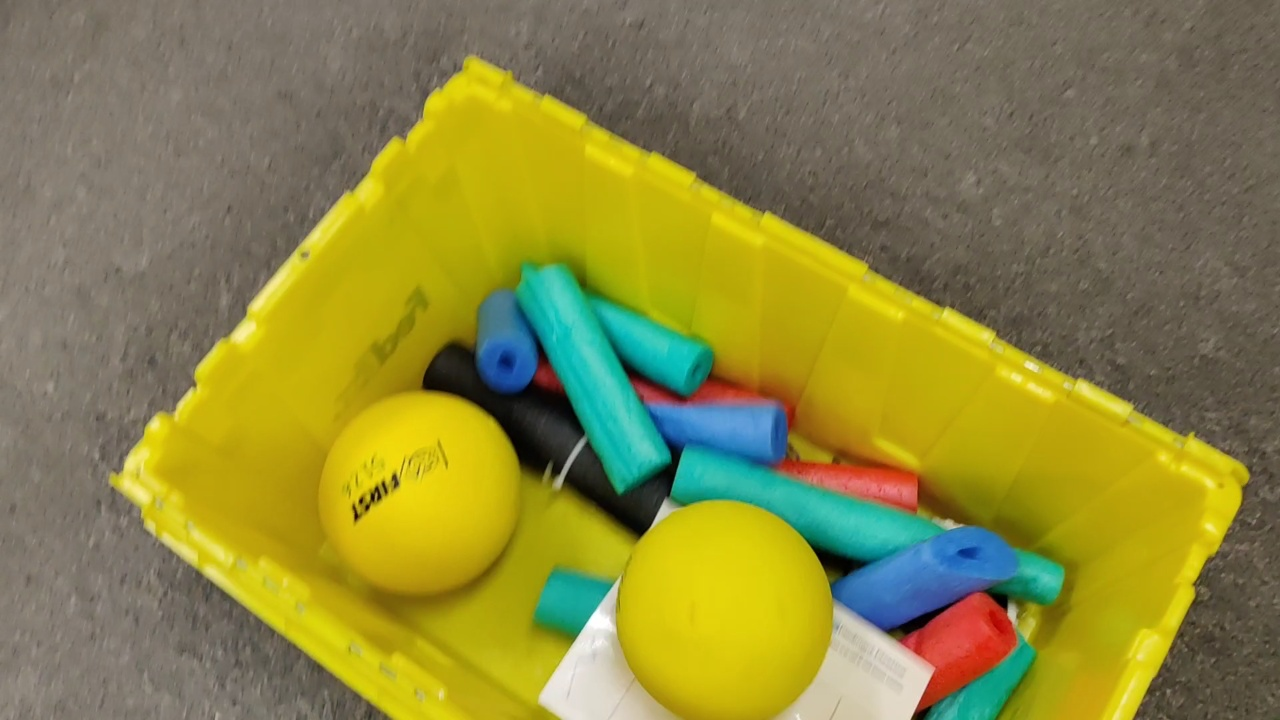Ball: (612, 498, 838, 719), (315, 393, 525, 590)
